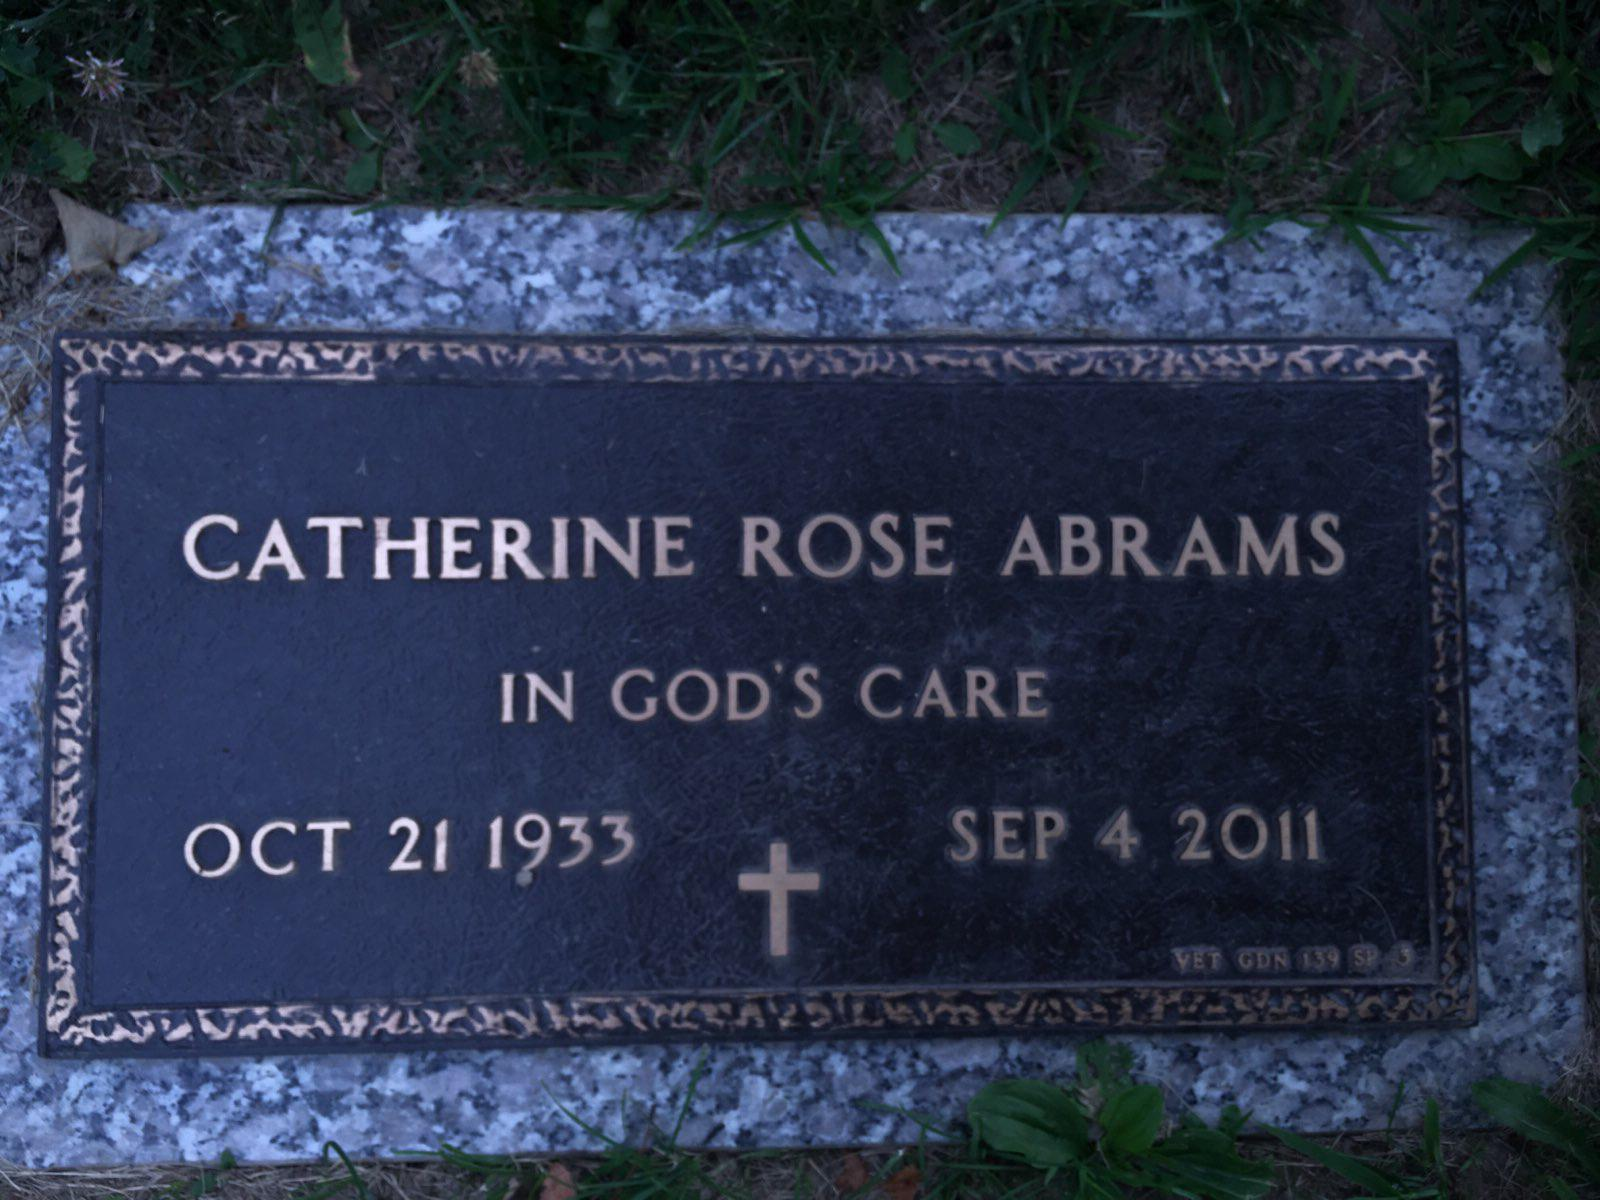flat: (13, 195, 1580, 1152)
